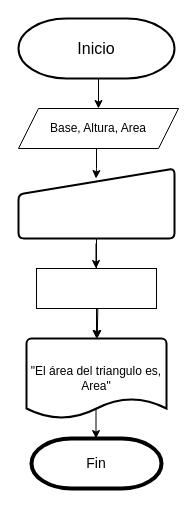
Image size: 196x507. Some labels were removed from this diagram. Here are the shapes that lost their labels. From the top down, the centre of each, then its label:
the point at 96,203: "Ingrese la base y la altura del triangulo"
the point at 96,288: Base*Altura/2
